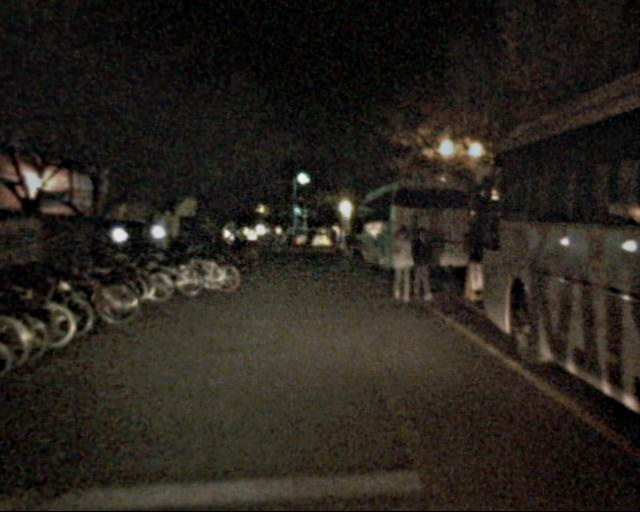person: (405, 225, 438, 305), (385, 229, 416, 304), (335, 223, 356, 275)
